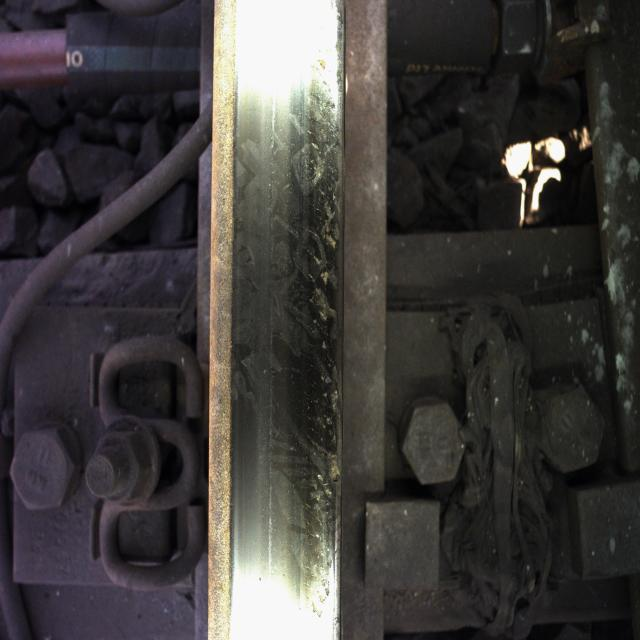scar: (286, 27, 346, 625)
